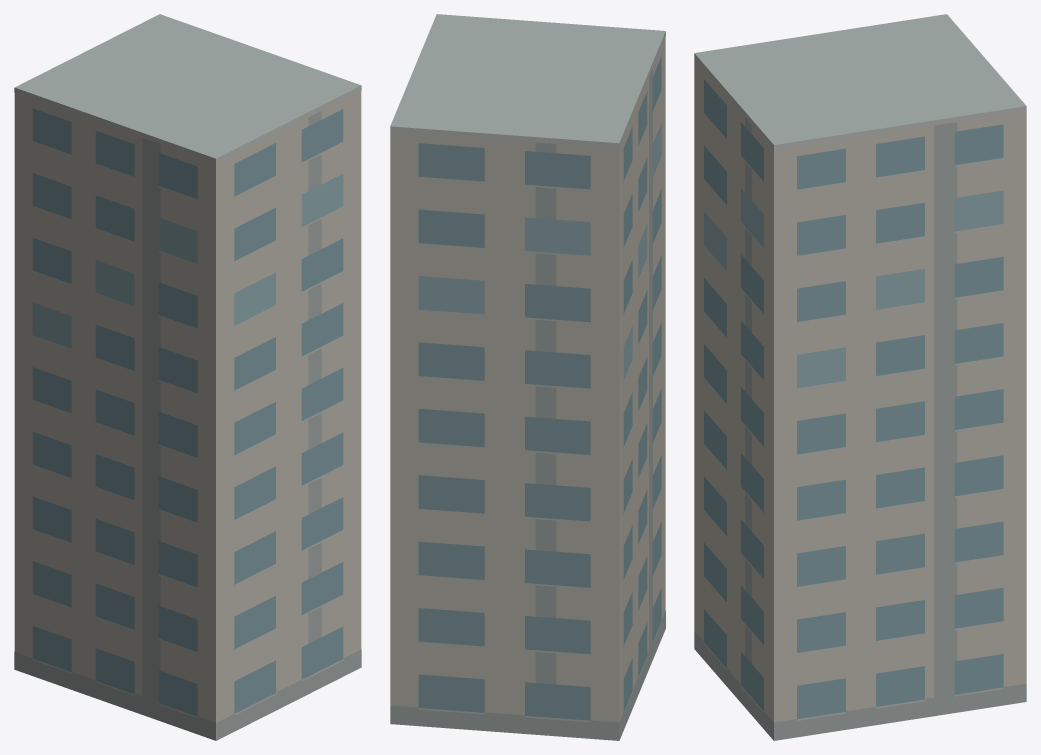
File: residential-a1fb76fb-957e-404d-9759-3b278014493c.glb
The picture shows the model from 3 angles, left to right: view 1: azimuth 30°, elevation 25°; view 2: azimuth 150°, elevation 25°; view 3: azimuth 270°, elevation 25°; orthographic projection. The views are drawn at different scales.
Parts seen in each view (by area): view 1: residential-a1fb76fb-957e-404d-9759-3b278014493c.tmp; view 2: residential-a1fb76fb-957e-404d-9759-3b278014493c.tmp; view 3: residential-a1fb76fb-957e-404d-9759-3b278014493c.tmp.
Part boxes in pixels (x1,y1,x2,y2): residential-a1fb76fb-957e-404d-9759-3b278014493c.tmp: [14, 14, 361, 740]; residential-a1fb76fb-957e-404d-9759-3b278014493c.tmp: [390, 14, 665, 740]; residential-a1fb76fb-957e-404d-9759-3b278014493c.tmp: [694, 14, 1026, 740].
Size of the model in its own units: 12.75 by 27 by 13.66.
